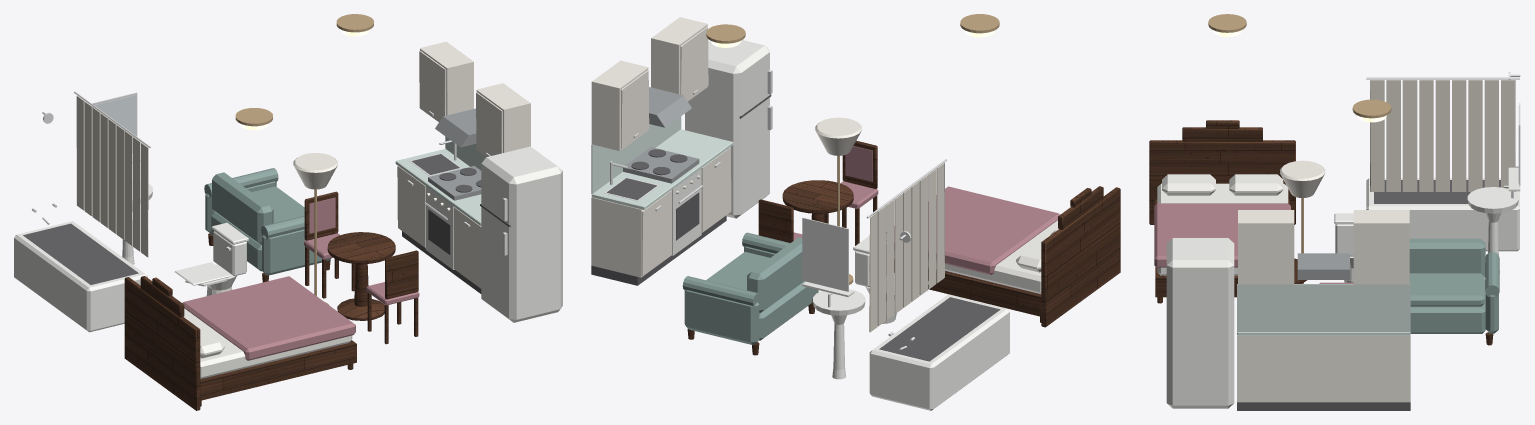
Rendered from studio.glb.
3 renders of one model, left to right at view 1: azimuth 30°, elevation 25°; view 2: azimuth 150°, elevation 25°; view 3: azimuth 270°, elevation 25°, orthographic. The views are drawn at different scales.
Visible parts, largest first — view 1: studio_dkwood, studio_appliance, studio_cream, studio_fabric3, studio_porcelain, studio_cloth, studio_fabric, studio_dark, studio_linen, studio_steel, studio_tile_k, studio_bronze (+2 smaller); view 2: studio_cream, studio_dkwood, studio_porcelain, studio_appliance, studio_fabric, studio_cloth, studio_fabric3, studio_dark, studio_tile_k, studio_chrome, studio_steel, studio_linen (+1 smaller); view 3: studio_cream, studio_cloth, studio_appliance, studio_tile_k, studio_fabric, studio_dkwood, studio_porcelain, studio_fabric3, studio_linen, studio_dark, studio_steel, studio_bronze (+1 smaller).
Part boxes in pixels (box(x1,y1,x2,y2)): studio_dkwood: box(124, 191, 418, 410); studio_appliance: box(425, 146, 562, 322); studio_cream: box(293, 41, 530, 288); studio_fabric3: box(182, 197, 419, 360); studio_porcelain: box(14, 157, 248, 332); studio_cloth: box(76, 95, 148, 257); studio_fabric: box(204, 168, 331, 275); studio_dark: box(23, 154, 510, 293); studio_linen: box(184, 308, 352, 378); studio_steel: box(428, 108, 481, 200); studio_tile_k: box(395, 136, 485, 225); studio_bronze: box(235, 14, 373, 305); studio_cream: box(591, 17, 861, 277); studio_dkwood: box(687, 140, 1120, 355); studio_porcelain: box(802, 234, 1009, 410); studio_appliance: box(671, 40, 769, 255); studio_fabric: box(682, 232, 818, 344); studio_cloth: box(869, 163, 944, 332); studio_fabric3: box(793, 146, 1059, 274); studio_dark: box(591, 94, 1000, 361); studio_tile_k: box(591, 116, 733, 209); studio_chrome: box(604, 70, 946, 350); studio_steel: box(623, 87, 699, 183); studio_linen: box(894, 220, 1058, 293); studio_cream: box(1237, 160, 1410, 402); studio_cloth: box(1370, 80, 1515, 191); studio_appliance: box(1166, 238, 1234, 408); studio_tile_k: box(1237, 284, 1410, 335); studio_fabric: box(1409, 238, 1499, 333); studio_dkwood: box(1149, 120, 1493, 345); studio_porcelain: box(1334, 167, 1520, 282); studio_fabric3: box(1154, 203, 1353, 283); studio_linen: box(1157, 174, 1288, 275); studio_dark: box(1237, 180, 1500, 410); studio_steel: box(1297, 253, 1349, 279); studio_bronze: box(1208, 14, 1391, 283).
Bounding box in the file's own units: 4.64 × 2.85 × 3.85.
15 materials, 1 textured.
